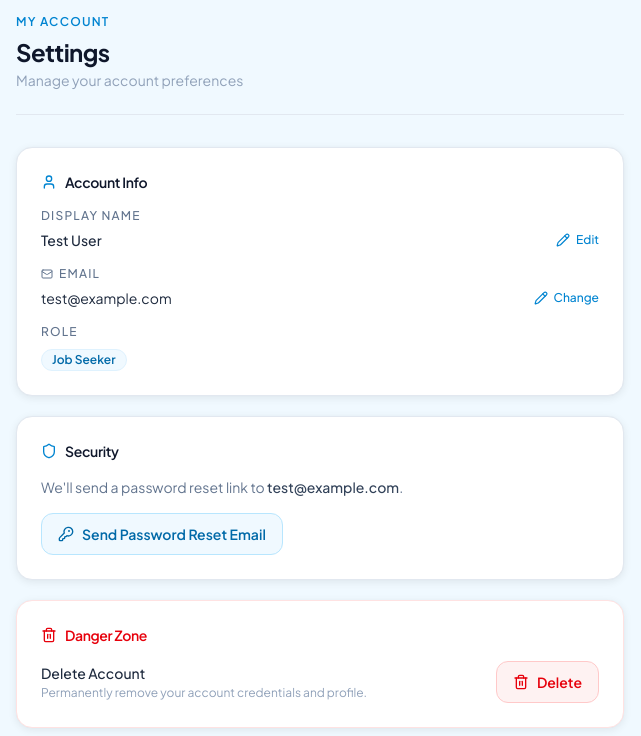
Test: SettingsPage › shows edit input when Edit button is clicked
The width and height of the screenshot is (641, 736).
Click the button "Edit". click: click(578, 240)
box: [556,232,599,248]
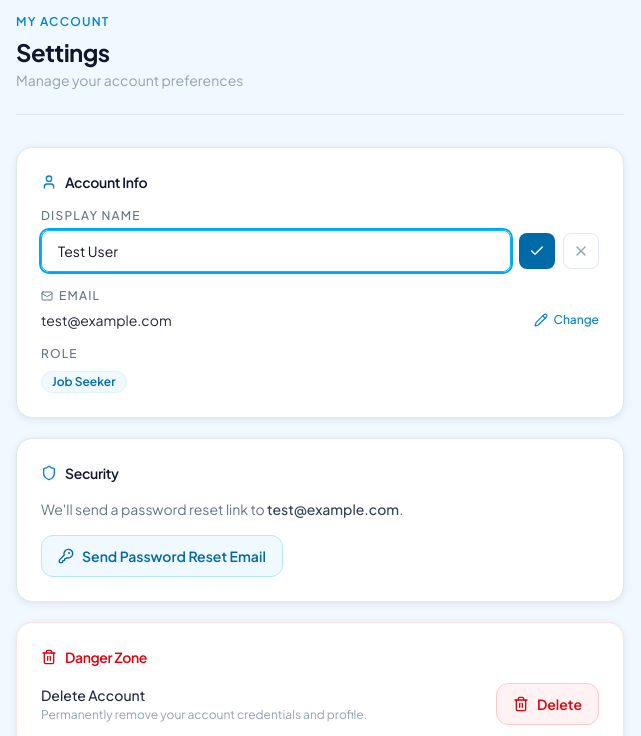
Expected: the field showing "Test User" is shown, [41,230,511,272]
